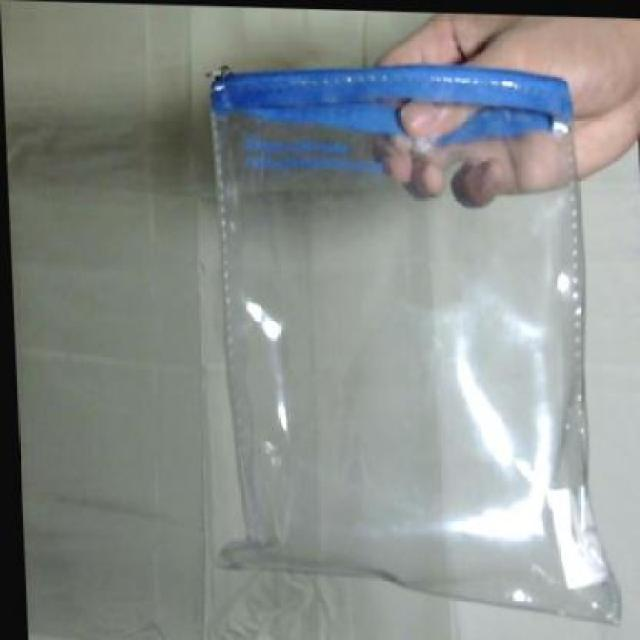Plastic: (204, 51, 627, 629)
